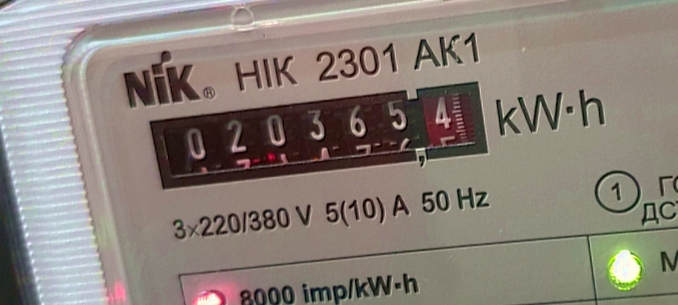0: (183, 127, 206, 162), (264, 113, 285, 150)
2: (222, 119, 246, 156)
3: (304, 107, 325, 143)
4: (430, 96, 451, 131)
5: (384, 99, 407, 133)
6: (344, 104, 366, 141)
screen: (130, 71, 505, 201)
